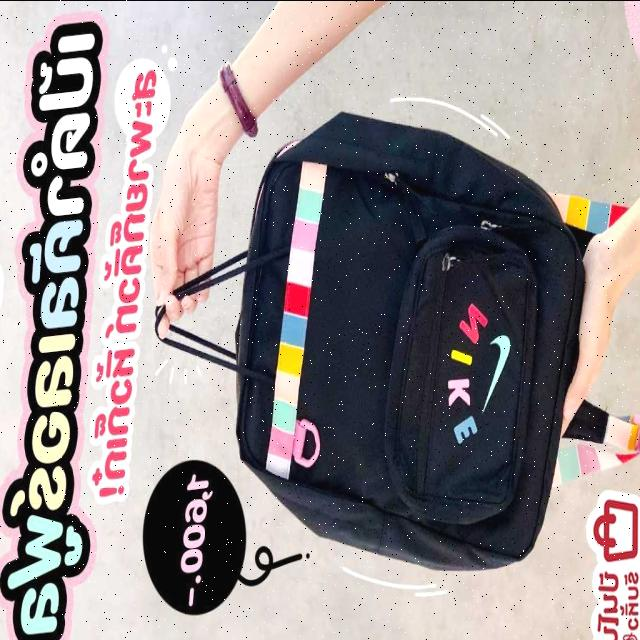Handbag: (215, 124, 587, 556)
